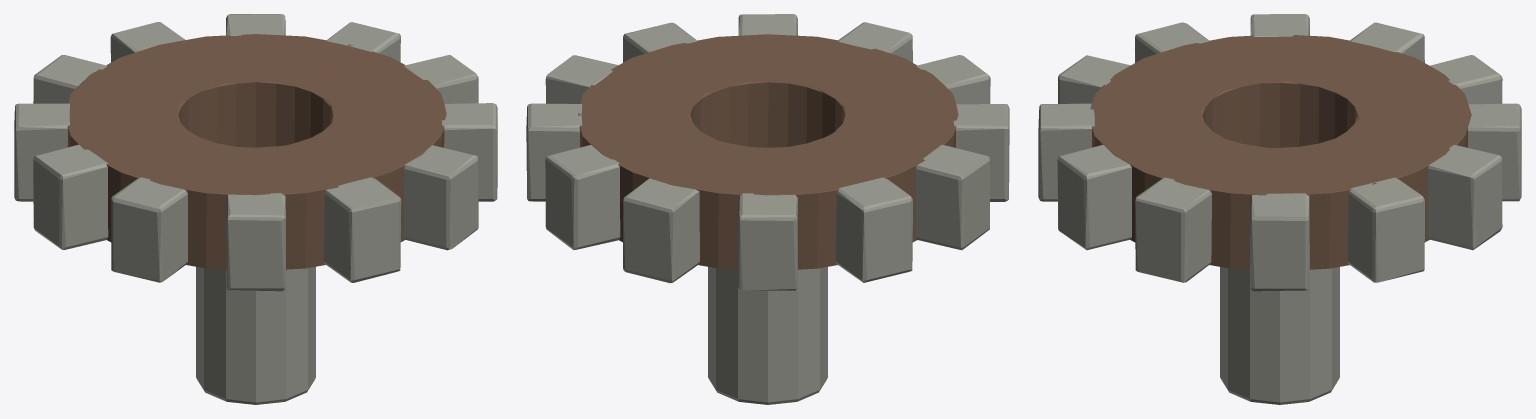
File: mechanical_part_low.glb
The picture shows the model from 3 angles, left to right: view 1: azimuth 30°, elevation 25°; view 2: azimuth 150°, elevation 25°; view 3: azimuth 270°, elevation 25°; orthographic projection.
Parts seen in each view (by area): view 1: mechanical_part.001; view 2: mechanical_part.001; view 3: mechanical_part.001.
Boxes of the visible parts, <box> form: mechanical_part.001: <box>14,14,497,404</box>; mechanical_part.001: <box>526,14,1009,404</box>; mechanical_part.001: <box>1038,14,1521,404</box>.
Size of the model in its own units: 0.201 by 0.1225 by 0.201.
